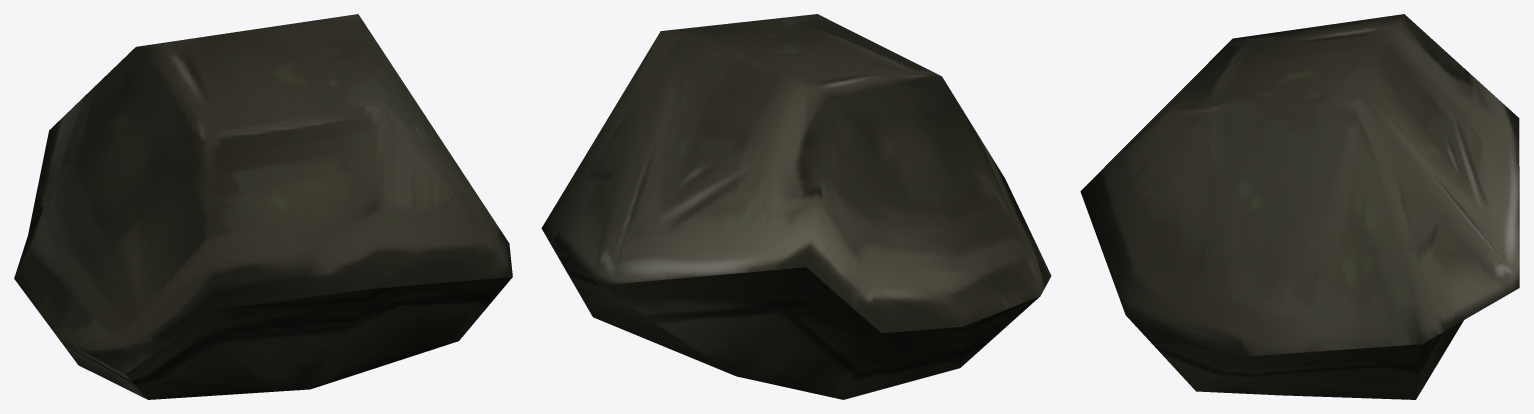
Rendered from prop_Rock1.FBX.
3 renders of one model, left to right at view 1: azimuth 30°, elevation 25°; view 2: azimuth 150°, elevation 25°; view 3: azimuth 270°, elevation 25°, orthographic.
Visible parts, largest first — view 1: env_Rock1; view 2: env_Rock1; view 3: env_Rock1.
Part boxes in pixels (x1,y1,x2,y2): env_Rock1: [14, 14, 512, 399]; env_Rock1: [541, 14, 1051, 399]; env_Rock1: [1080, 14, 1519, 399].
Size of the model in its own units: 10.96 by 9.73 by 6.67.
Materials: 1 (1 with a texture image).
